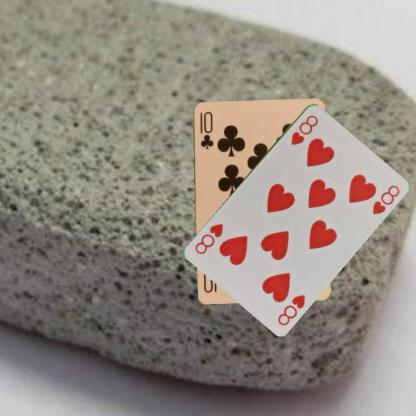10c: (197, 109, 214, 150)
8h: (288, 112, 320, 146), (275, 292, 307, 326)
